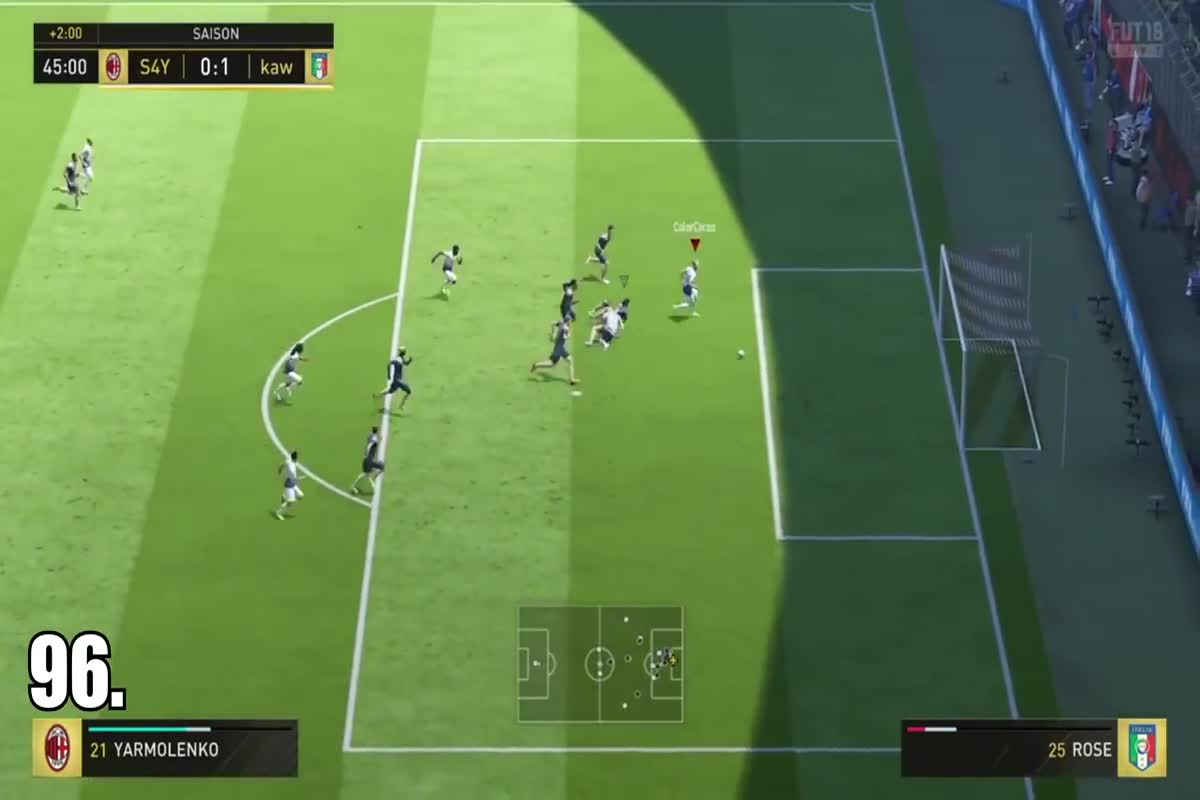ball: (729, 345, 754, 363)
